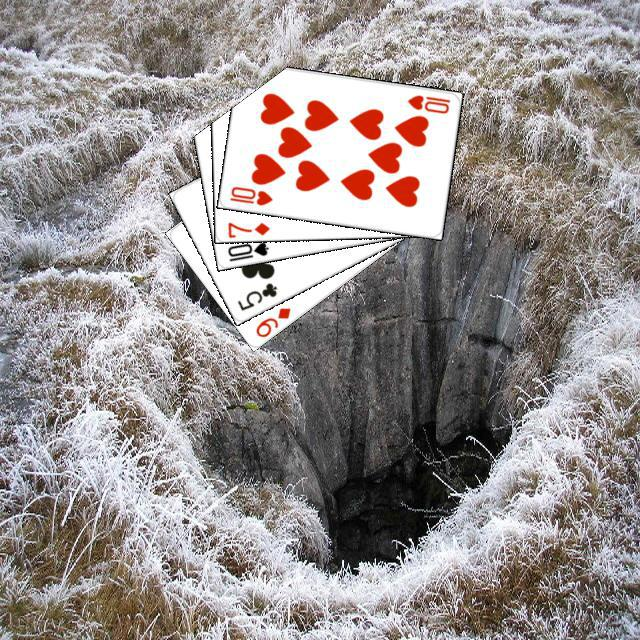10h: (225, 181, 274, 207), (402, 90, 452, 115)
10s: (223, 237, 270, 263)
5c: (232, 278, 279, 312)
7d: (223, 217, 271, 238)
9d: (251, 302, 292, 339)
